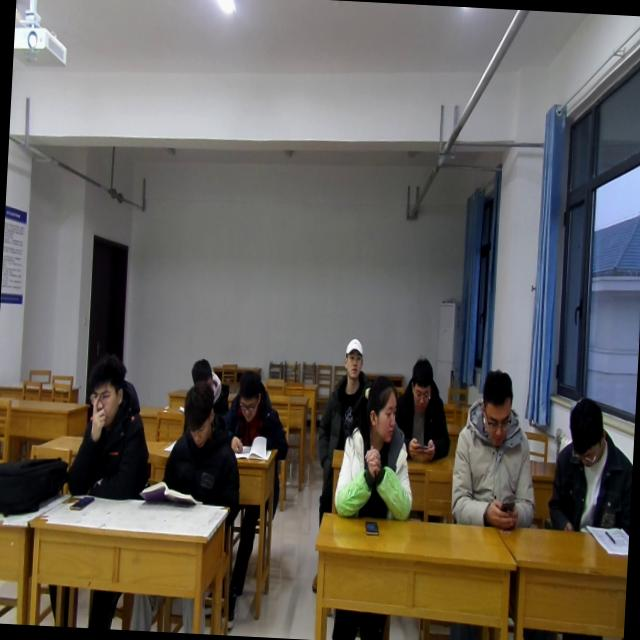down: (83, 349, 129, 431), (478, 364, 520, 450), (564, 394, 608, 472), (180, 383, 218, 452), (405, 354, 437, 417), (233, 368, 264, 426), (186, 354, 216, 400)
lookup: (339, 331, 365, 384)
sit: (450, 368, 542, 532), (64, 347, 155, 502), (544, 398, 636, 536), (332, 379, 418, 526), (159, 386, 244, 510), (316, 335, 376, 472), (391, 353, 456, 467), (223, 358, 294, 461), (176, 349, 226, 419)
